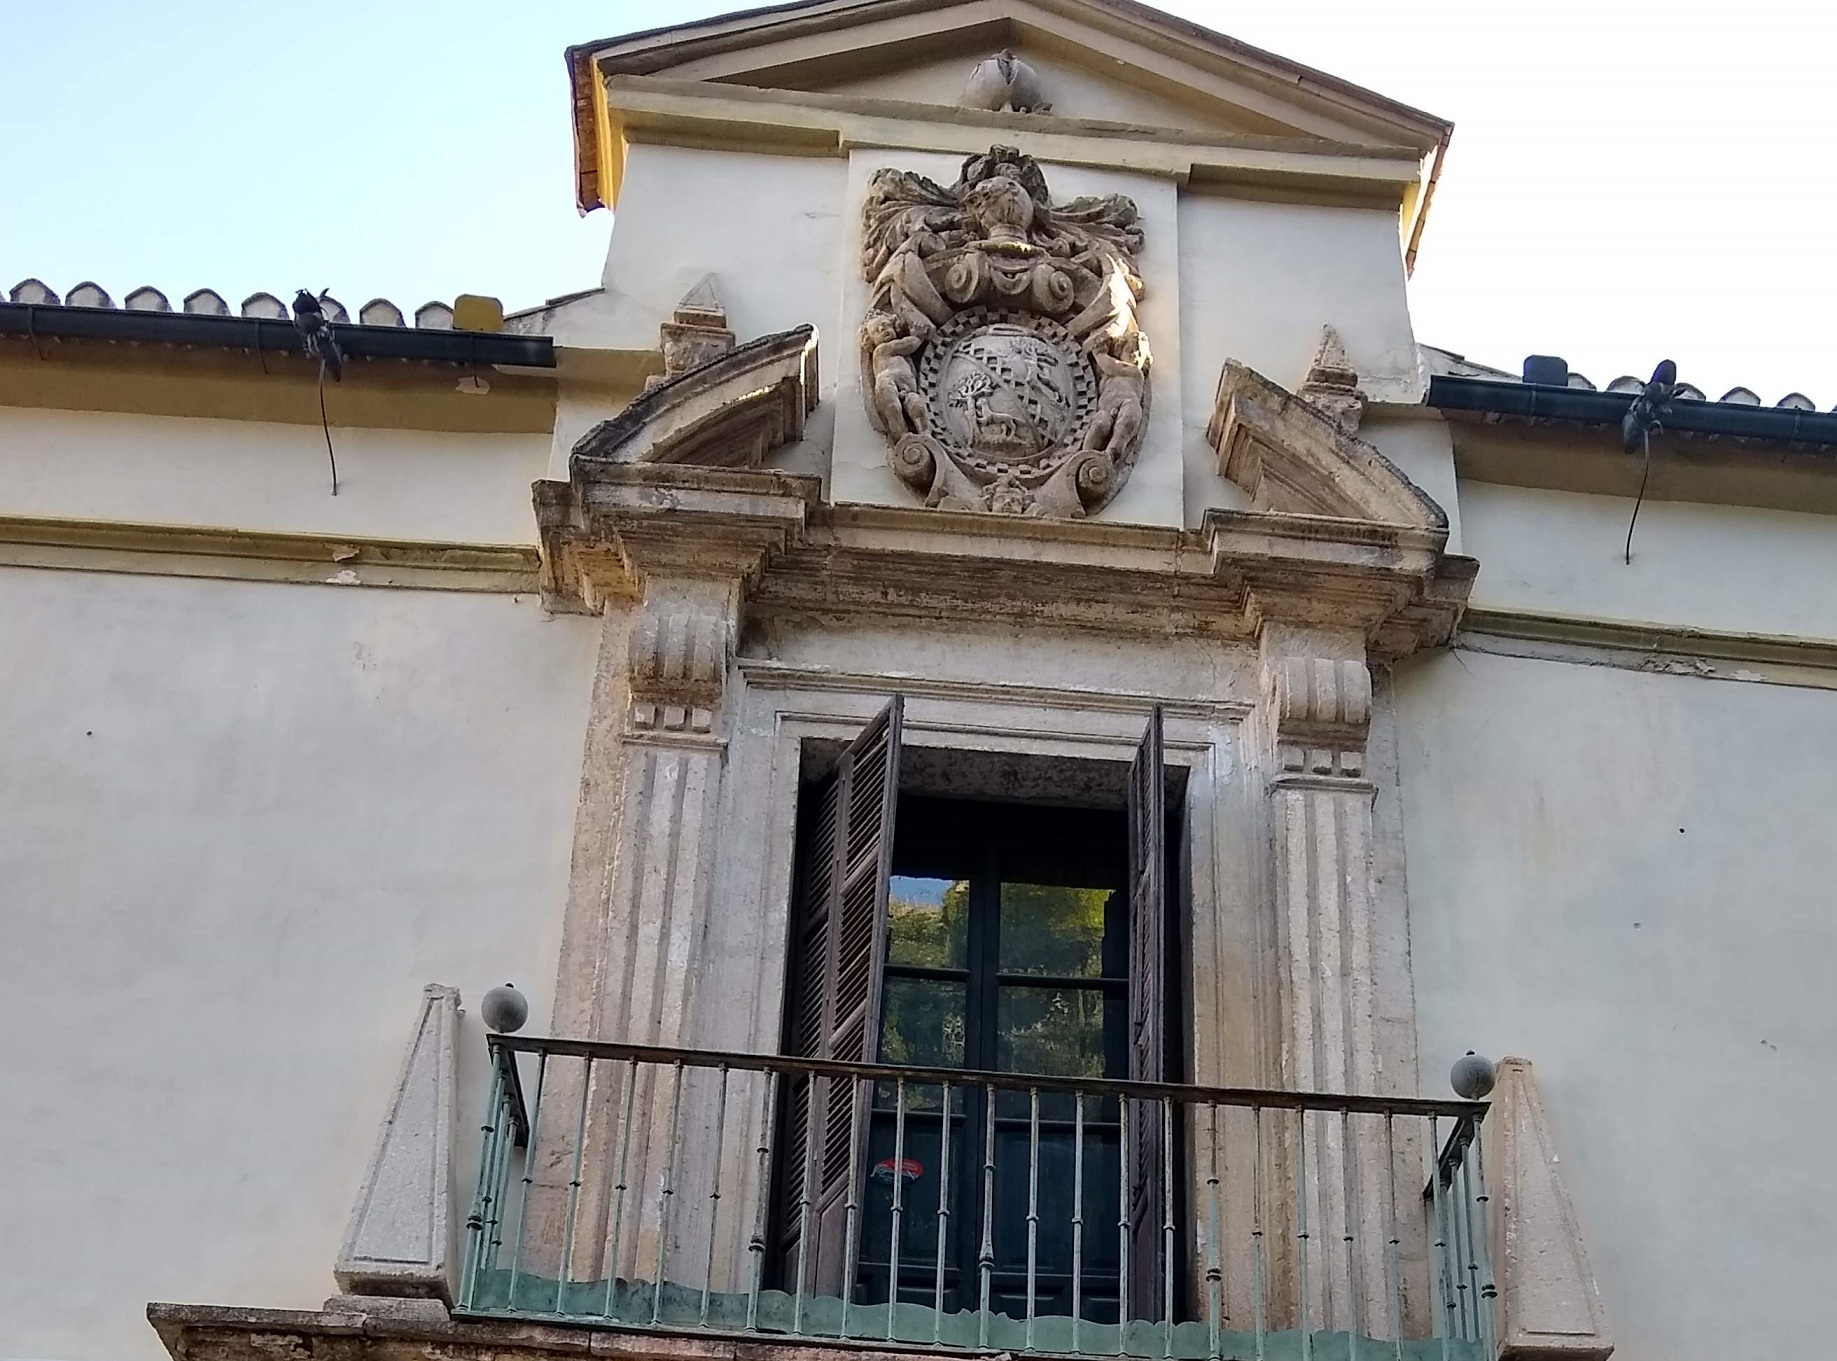fronton-partido: (559, 317, 1455, 566), (563, 1, 1472, 203)
vano-adintelado: (746, 658, 1254, 1332)
